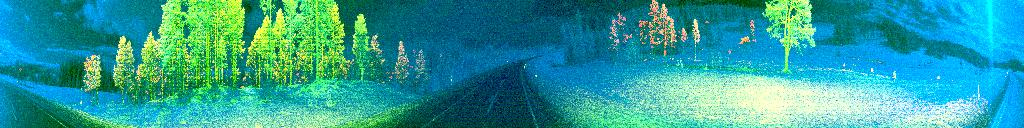pole: (976, 81, 982, 106), (79, 86, 83, 109), (450, 72, 452, 91)
